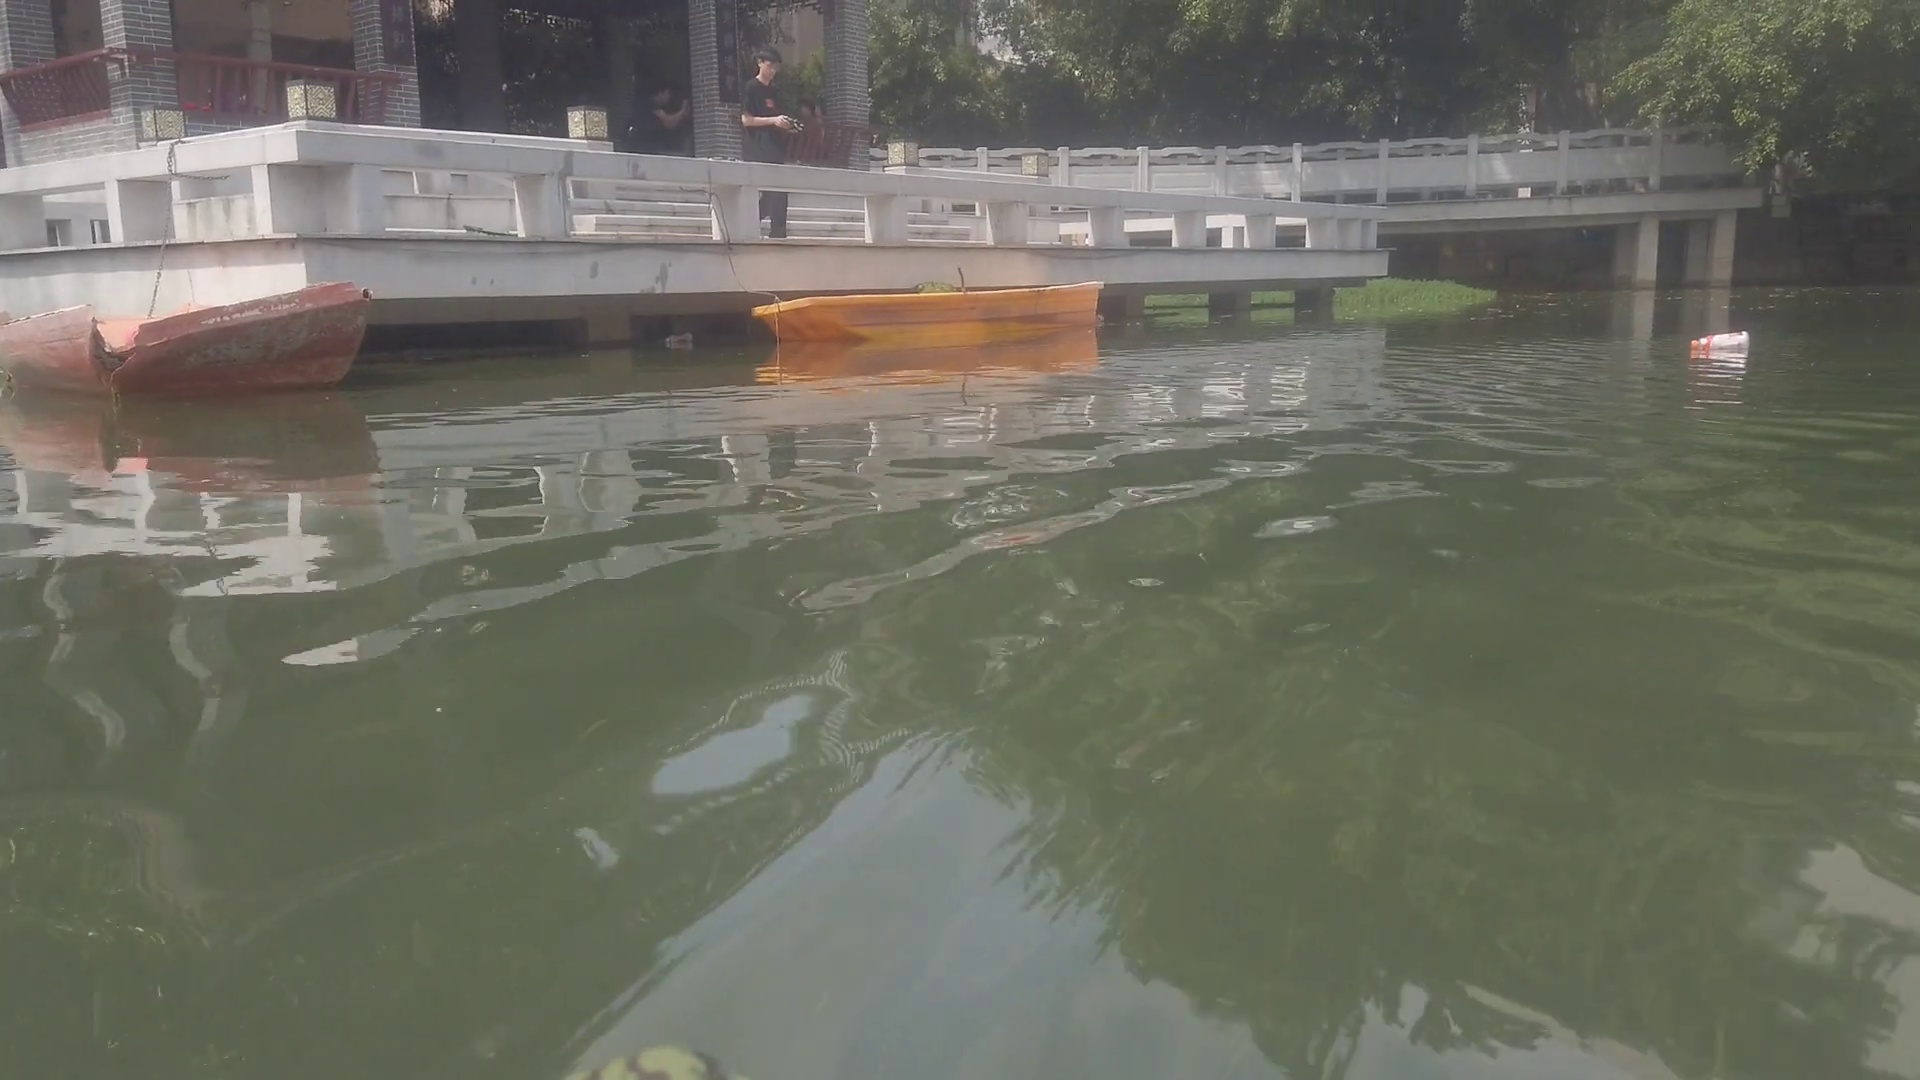bottle: (1688, 328, 1751, 353), (665, 330, 698, 344)
